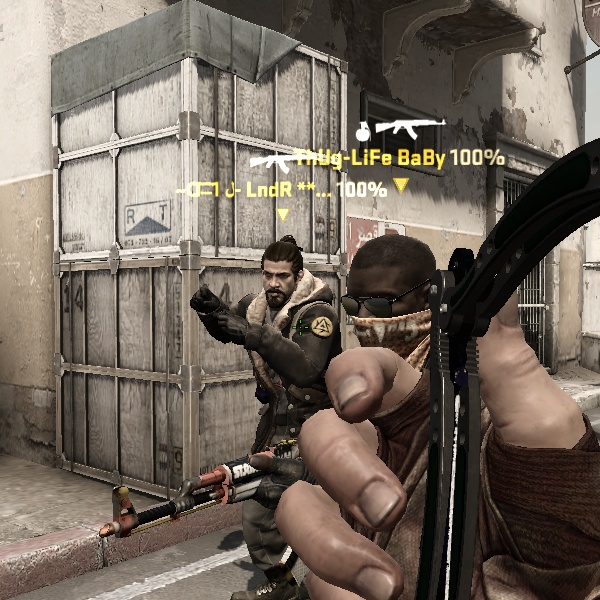t_body: (187, 234, 341, 586)
t_head: (339, 235, 439, 350), (253, 234, 305, 309)
